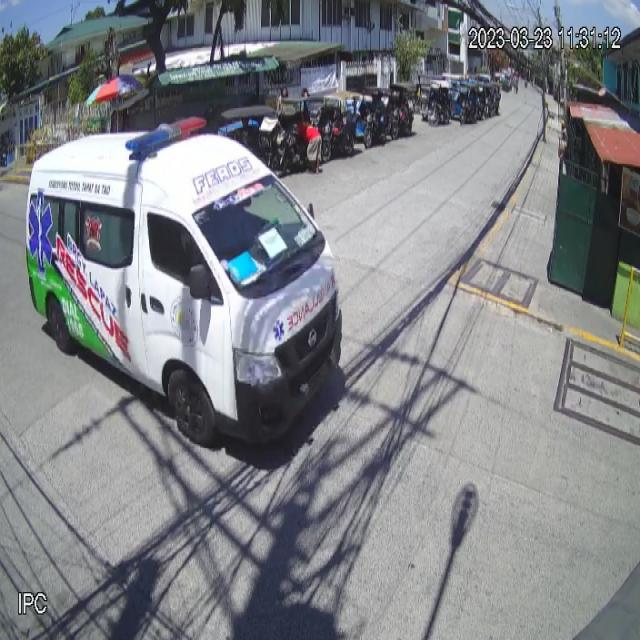Van: (25, 123, 343, 449)
